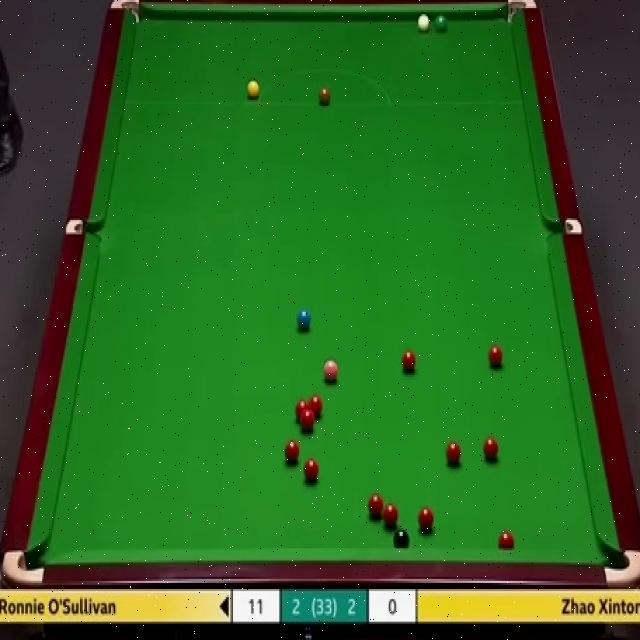black-ball: (391, 528, 409, 550)
blue-ball: (296, 308, 312, 333)
brown-ball: (317, 84, 331, 107)
green-ball: (433, 15, 449, 34)
pink-ball: (323, 355, 339, 383)
red-ball: (382, 501, 400, 532), (401, 347, 418, 376), (302, 460, 319, 489), (417, 506, 434, 534), (482, 436, 499, 462), (285, 438, 302, 464), (368, 492, 384, 519), (445, 441, 461, 466), (488, 343, 503, 369), (498, 529, 515, 550), (309, 395, 323, 420), (301, 412, 315, 432), (296, 399, 308, 420)
white-ball: (416, 13, 431, 36)
yellow-ball: (245, 78, 259, 99)
